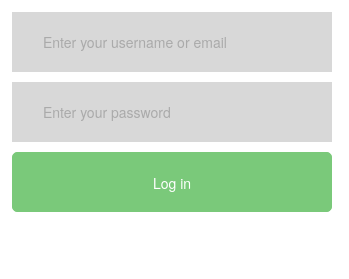
Test: LoginForm › shows the username message for an invalid username
The image size is (349, 279).
In the field labelled "username or email": (172, 42) [12,12,332,72], type "a!"
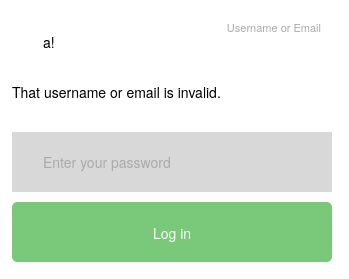
Expected: the text "That username or email is invalid." is shown, [12,82,221,102]
